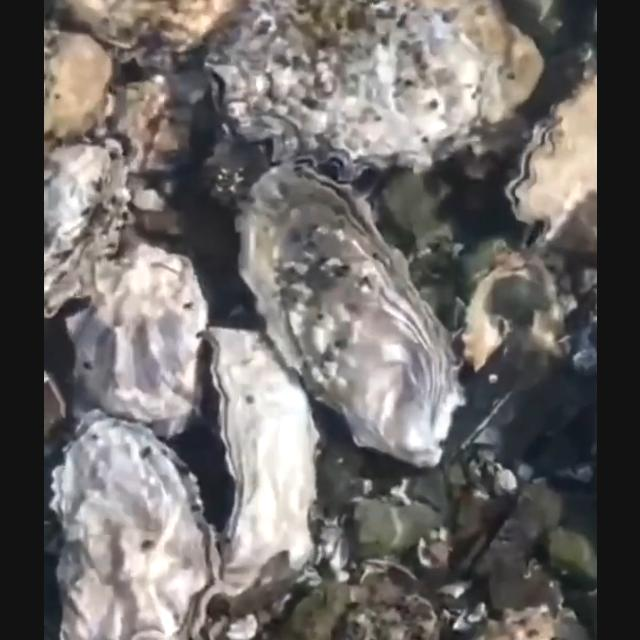Oyster-Closed: (198, 328, 322, 602), (66, 243, 210, 445), (44, 142, 136, 326), (62, 1, 240, 74), (42, 33, 118, 141)
Oyster-Open: (232, 164, 466, 473), (200, 1, 542, 188), (45, 412, 225, 640), (500, 74, 596, 260)
